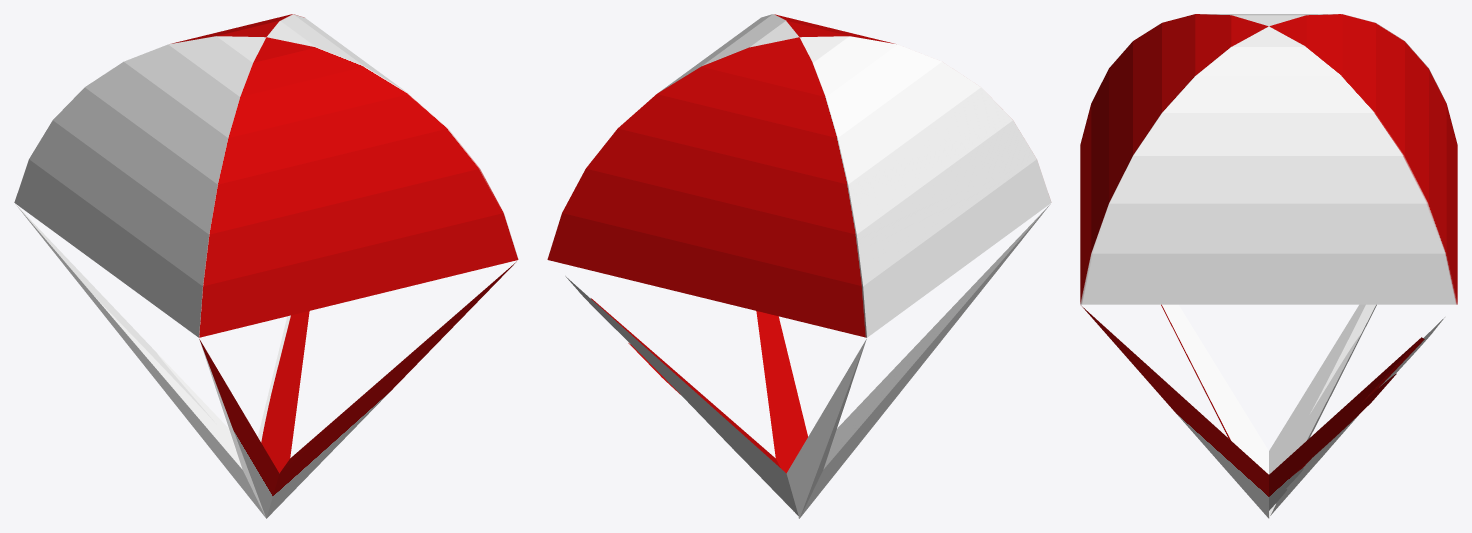
The model's file is parachute.obj.
The picture shows the model from 3 angles, left to right: view 1: azimuth 30°, elevation 25°; view 2: azimuth 150°, elevation 25°; view 3: azimuth 270°, elevation 25°; orthographic projection. The views are drawn at different scales.
Parts seen in each view (by area): view 1: 球_球.001; view 2: 球_球.001; view 3: 球_球.001.
Boxes of the visible parts, x1,y1,x2,y2 form: 球_球.001: (14,14,518,518); 球_球.001: (547,14,1051,518); 球_球.001: (1080,14,1457,518).
Bounding box in the file's own units: 1.39 × 2 × 1.39.
